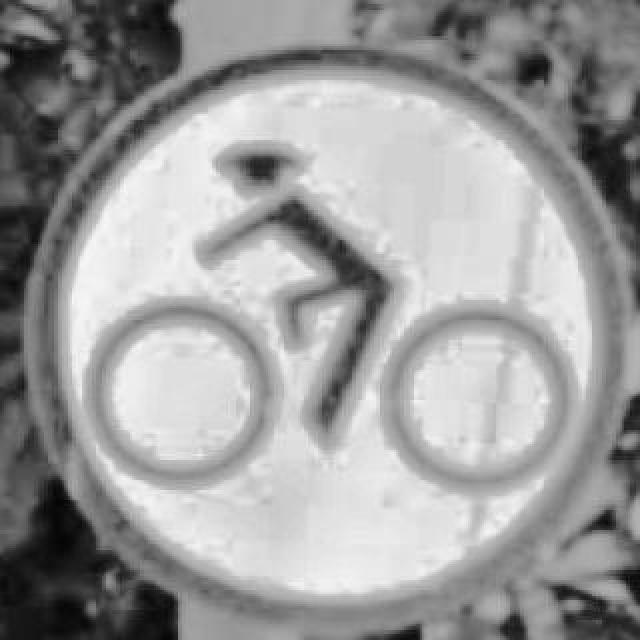bike lane: (22, 40, 628, 632)
